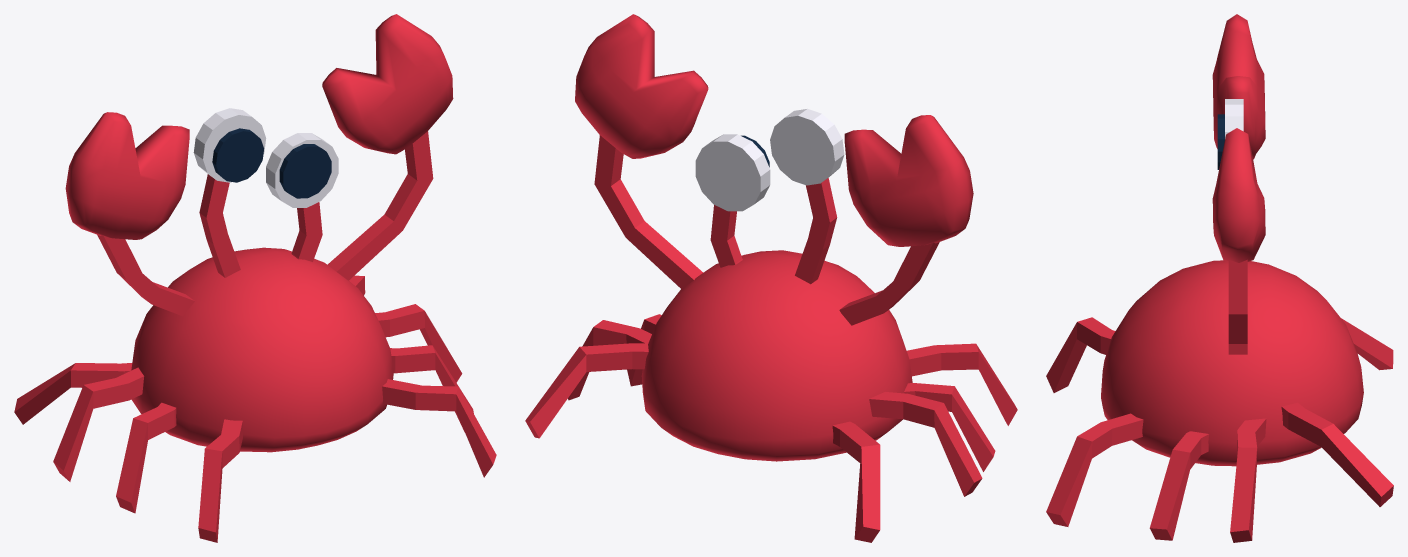
File: Crab.fbx
3 renders of one model, left to right at view 1: azimuth 30°, elevation 25°; view 2: azimuth 150°, elevation 25°; view 3: azimuth 270°, elevation 25°, orthographic. The views are drawn at different scales.
Visible parts, largest first — view 1: Crab; view 2: Crab; view 3: Crab.
Part boxes in pixels (bbox=[...]): Crab: bbox=[14, 14, 496, 542]; Crab: bbox=[525, 14, 1017, 542]; Crab: bbox=[1046, 14, 1393, 542].
Bounding box in the file's own units: 1.14 × 1.07 × 0.8498.
